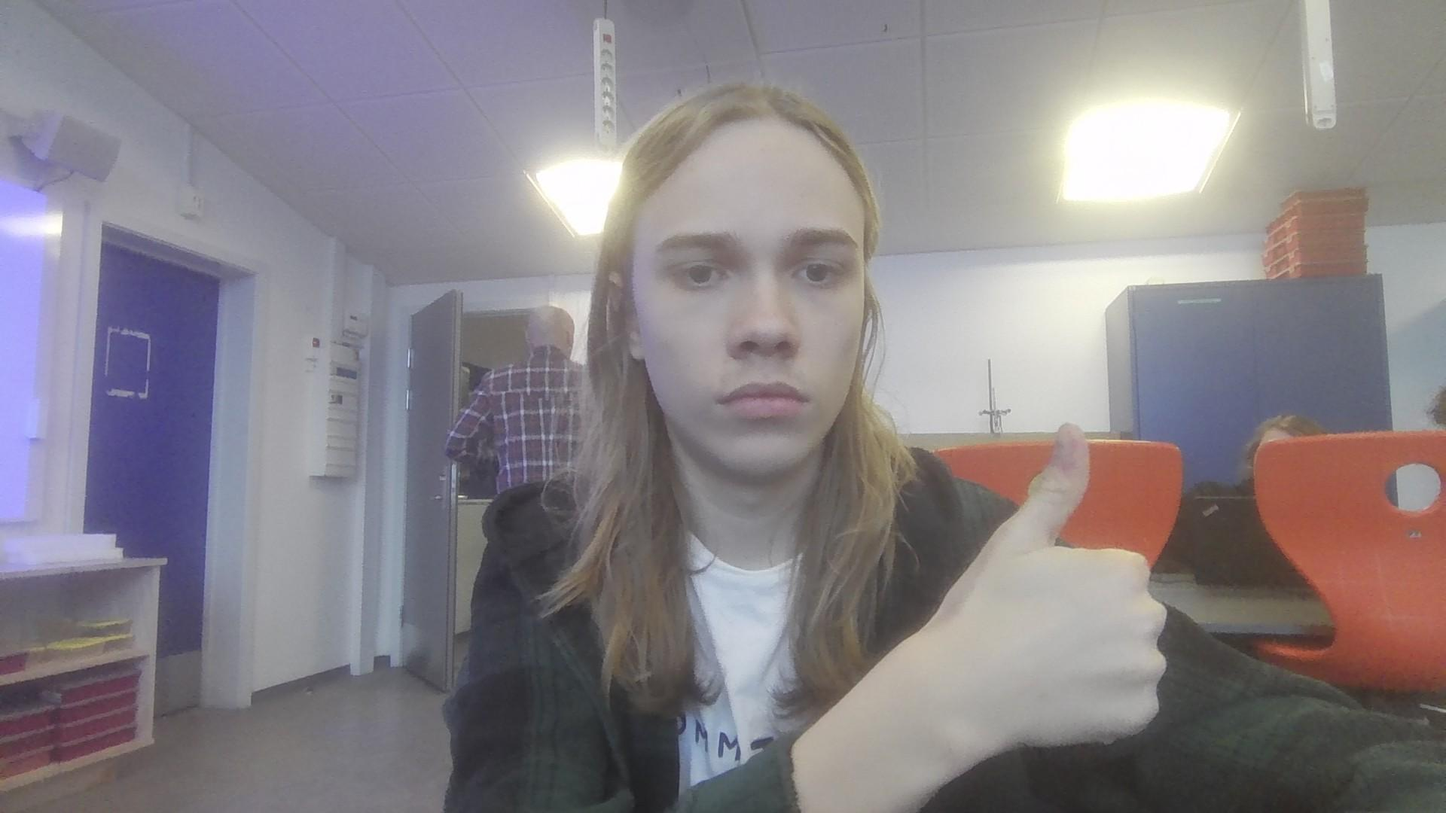thumbs up: (934, 418, 1175, 753)
